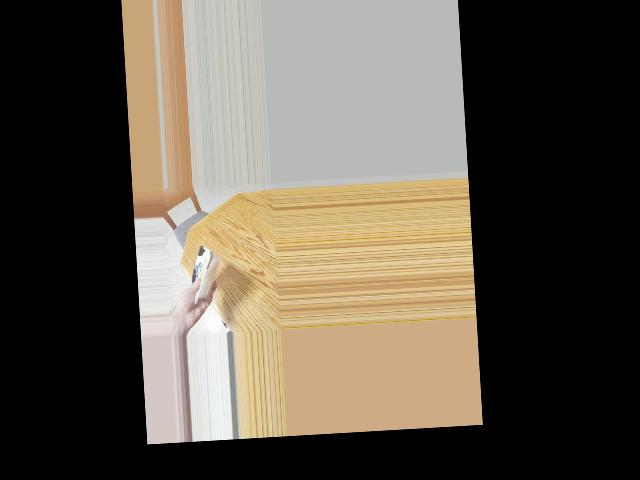cheese: (179, 247, 225, 299)
